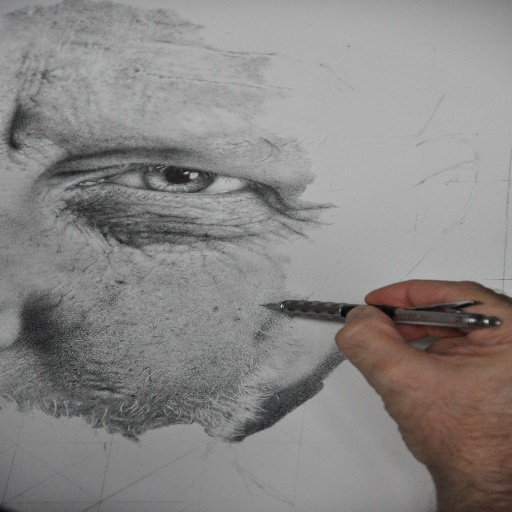hand: (331, 277, 511, 473)
